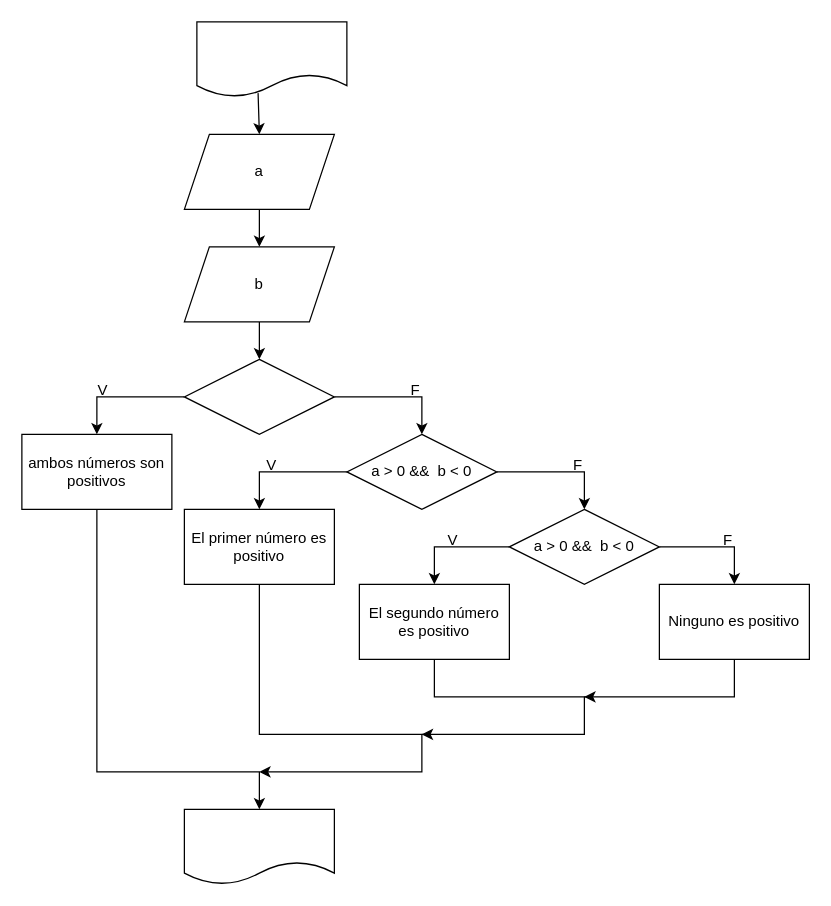
Some shapes in this 831 by 906 pixel diagram are drawn without their labels. Each missing label, with the centre of its shape:
"a > 0 && b > 0" goes at pixel 258 396.
"Fin" goes at pixel 258 846.
"Inicio" goes at pixel 271 59.
